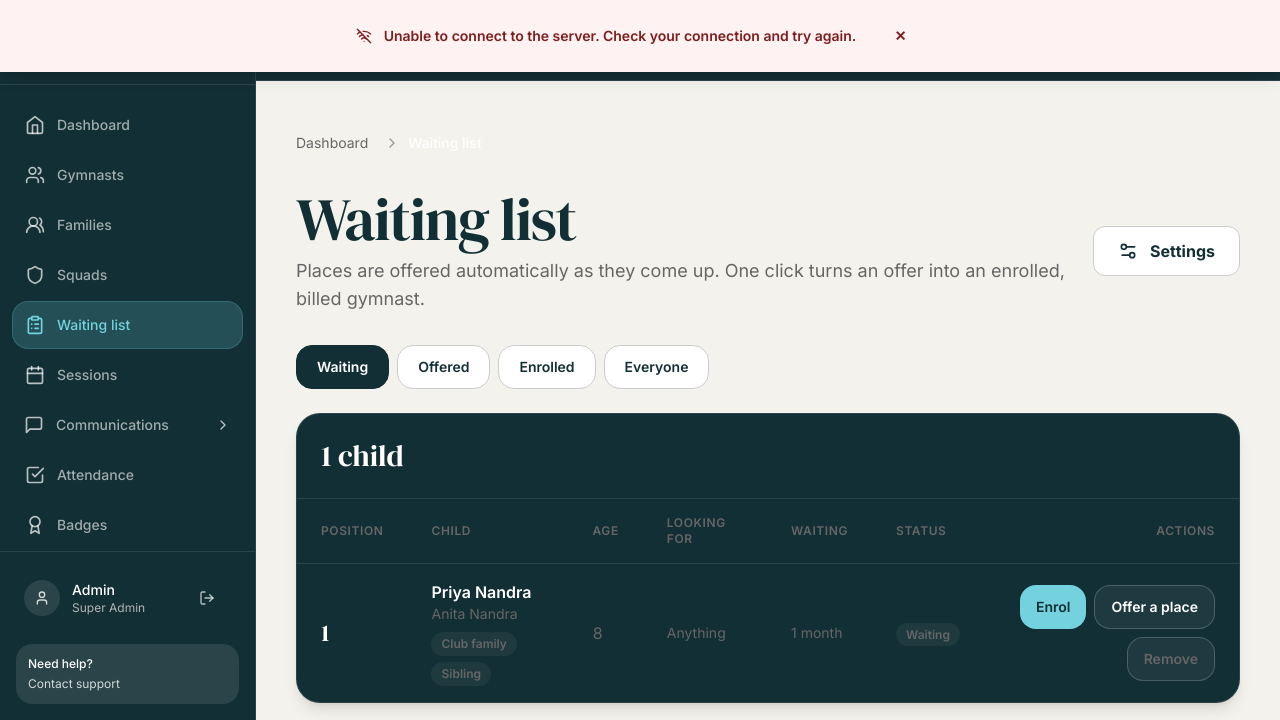
it: Waiting list admin page › reports exactly what the one click created, and what still needs a person
Expected: the link "Priya Nandra" is shown, [432,582,532,602]
Click the button "Enrol". click: click(1053, 607)
box: [1020,585,1086,629]
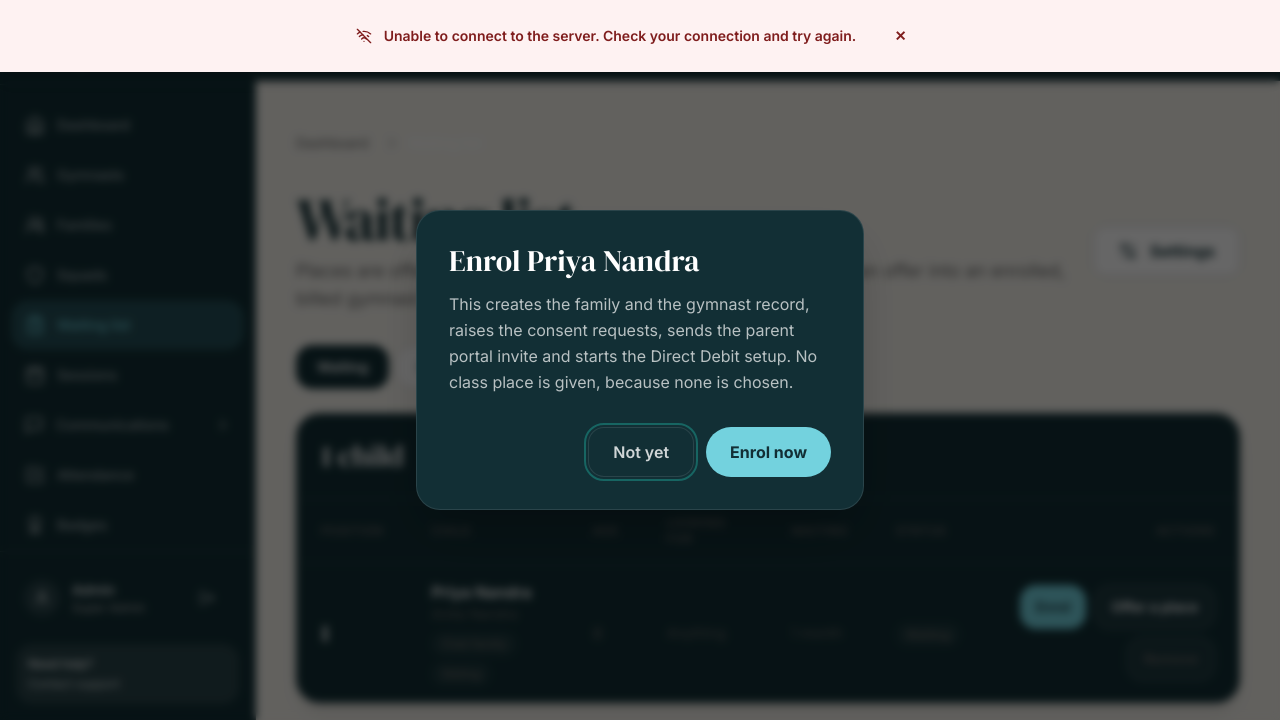
Click the button "Enrol now". click: click(769, 452)
box: [706,427,831,477]
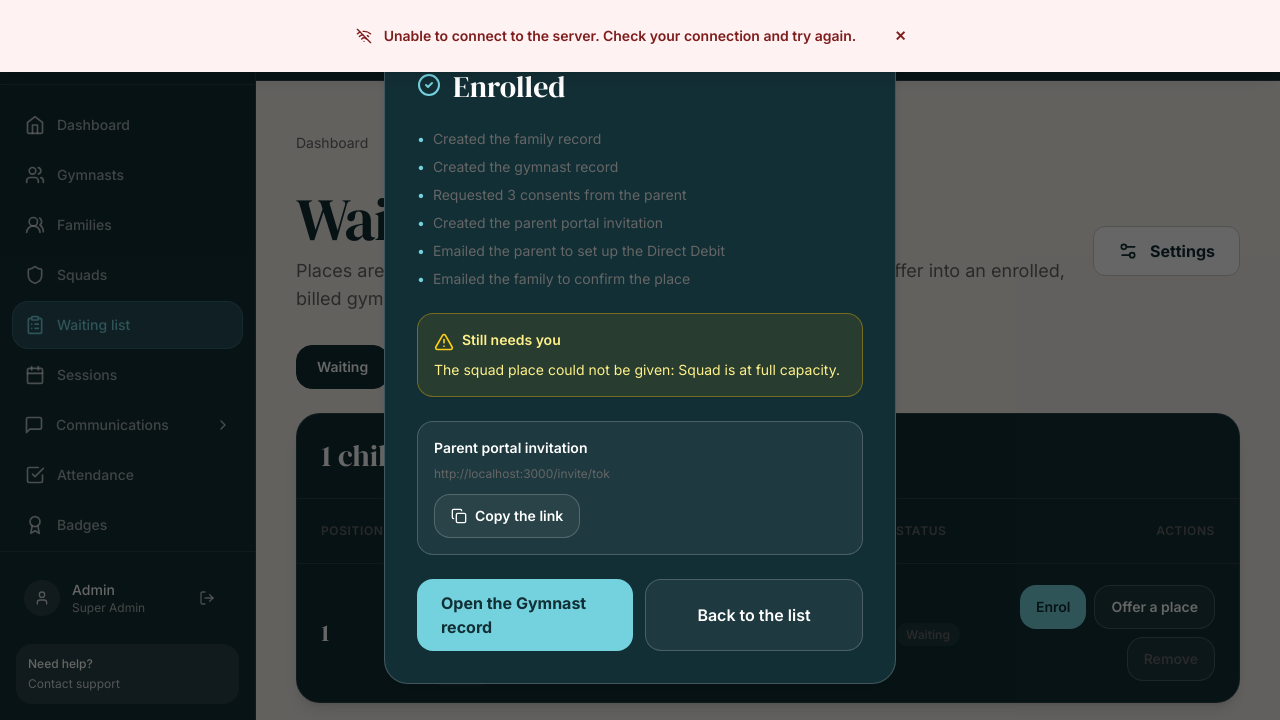
Now the heading "Enrolled" is shown, box [453,69,566,105]
Now the text "Created the family record" is shown, box [433,129,601,149]
Now the text "Requested 3 consents from the parent" is shown, box [433,185,687,205]
